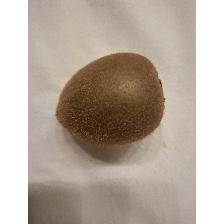Kiwi: (54, 48, 168, 150)
